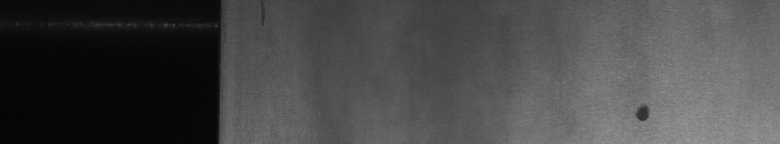fi: (629, 99, 656, 128)
